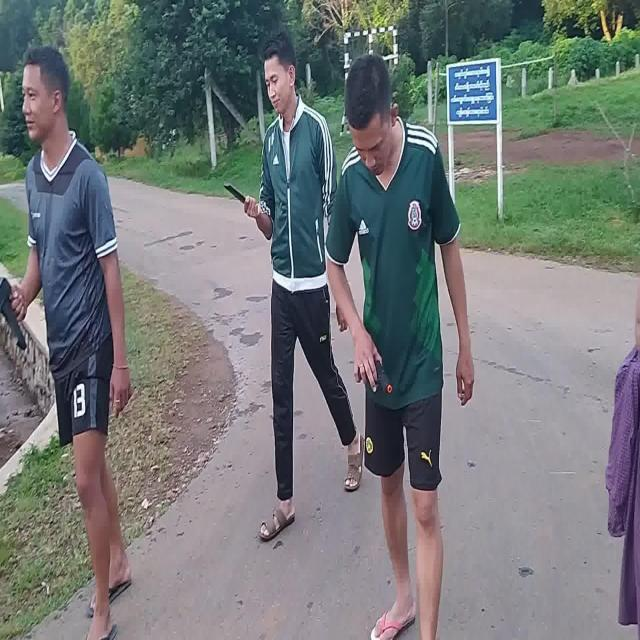gun: (1, 279, 26, 352), (358, 357, 390, 393)
